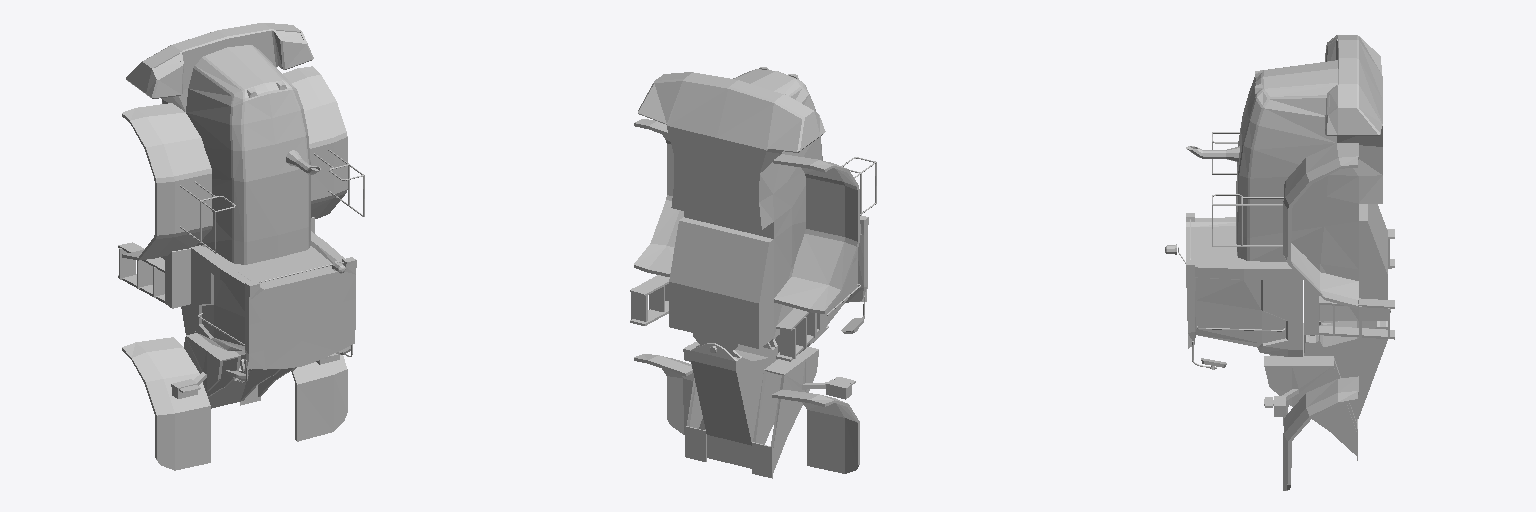
Rendered from BaseMaquina.obj.
3 renders of one model, left to right at view 1: azimuth 30°, elevation 25°; view 2: azimuth 150°, elevation 25°; view 3: azimuth 270°, elevation 25°, orthographic.
Visible parts, largest first — view 1: base_back_low, Cabin_low, base_wings_low, wing_low, front_base_low, glass_low, KRYLO_low, Line_low, KRYLO_stairs_low; view 2: base_back_low, front_base_low, base_wings_low, wing_low, KRYLO_stairs_low, KRYLO_low, Cabin_low, glass_low; view 3: base_back_low, front_base_low, Cabin_low, glass_low, base_wings_low, wing_low, KRYLO_low, Line_low.
Part boxes in pixels (left/top/right/bottom): base_back_low: left=126, top=23, right=313, bottom=264; Cabin_low: left=191, top=231, right=356, bottom=369; base_wings_low: left=122, top=66, right=347, bottom=260; wing_low: left=122, top=337, right=347, bottom=470; front_base_low: left=171, top=304, right=339, bottom=408; glass_low: left=155, top=31, right=345, bottom=350; KRYLO_low: left=118, top=217, right=314, bottom=308; Line_low: left=180, top=149, right=364, bottom=382; KRYLO_stairs_low: left=119, top=248, right=164, bottom=297; base_back_low: left=638, top=69, right=825, bottom=352; front_base_low: left=683, top=339, right=851, bottom=478; base_wings_low: left=634, top=67, right=859, bottom=313; wing_low: left=634, top=354, right=859, bottom=473; KRYLO_stairs_low: left=631, top=279, right=816, bottom=358; KRYLO_low: left=630, top=275, right=826, bottom=361; Cabin_low: left=775, top=215, right=868, bottom=353; glass_low: left=827, top=250, right=857, bottom=324; base_back_low: left=1236, top=35, right=1387, bottom=335; front_base_low: left=1264, top=321, right=1387, bottom=460; Cabin_low: left=1186, top=213, right=1302, bottom=356; glass_low: left=1165, top=36, right=1337, bottom=346; base_wings_low: left=1255, top=70, right=1358, bottom=308; wing_low: left=1283, top=321, right=1358, bottom=490; KRYLO_low: left=1304, top=229, right=1394, bottom=339; Line_low: left=1178, top=132, right=1390, bottom=368.
Bounding box in the file's own units: 3.3 × 6.52 × 3.44.